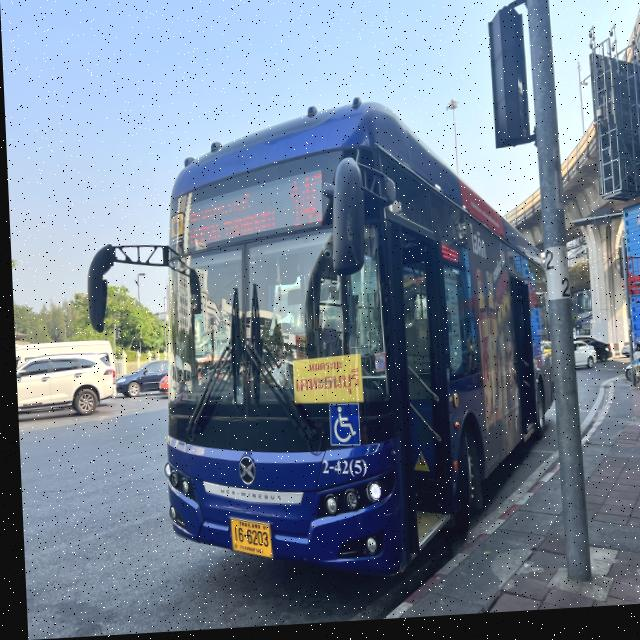Bus Line Number: (283, 169, 326, 240)
Bus Side Number: (311, 456, 365, 482)
Destination Sign: (179, 187, 274, 248), (288, 359, 359, 406)
TSB-Bus: (157, 105, 544, 586)
